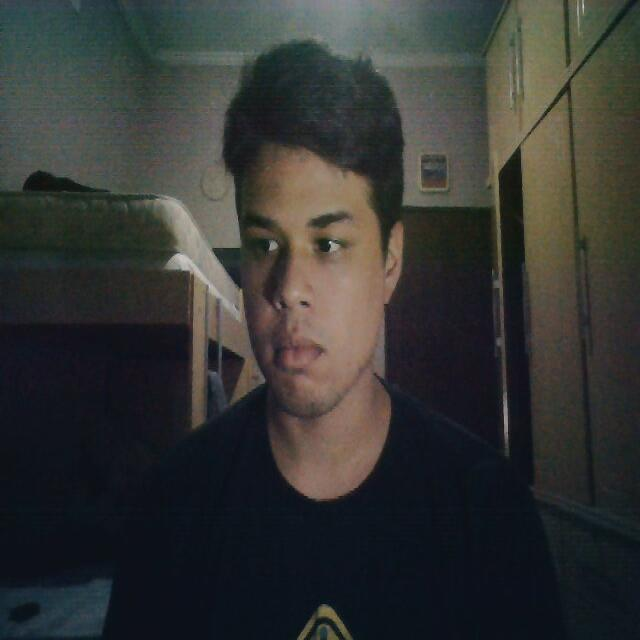acordado: (233, 136, 405, 426)
